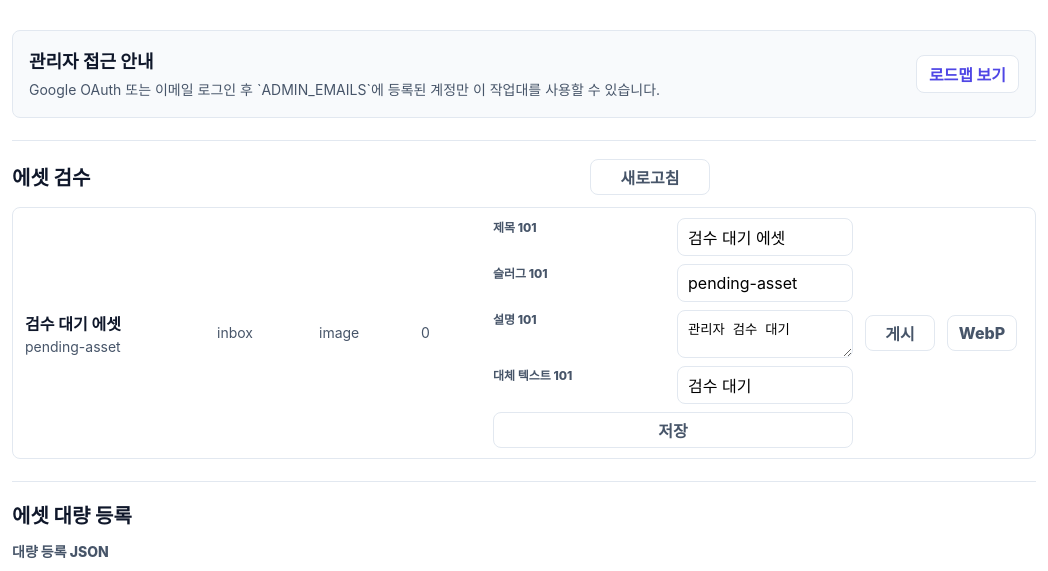
AdminDashboard › generates image derivatives for an inbox asset
The width and height of the screenshot is (1048, 571).
Click the button with aria-label "파생 이미지 생성 101": [982, 333] box [947, 315, 1017, 351]
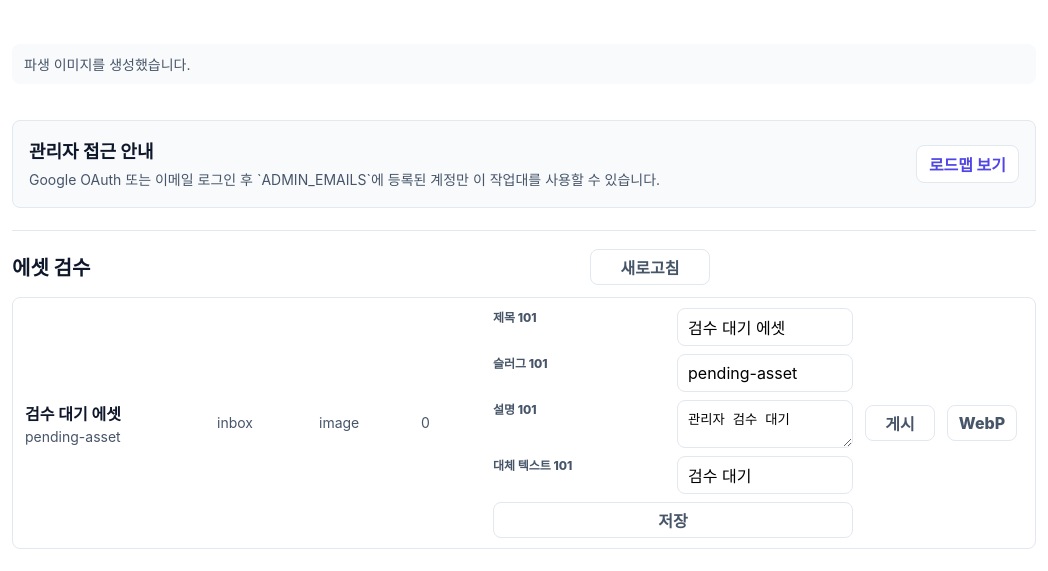
Now the text "파생 이미지를 생성했습니다." is shown, box [12, 44, 1036, 84]
